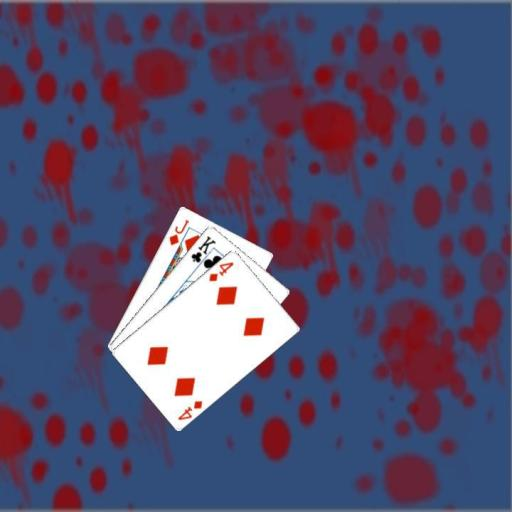4D: (206, 258, 236, 283), (174, 397, 204, 422)
JD: (166, 216, 191, 247)
KC: (188, 233, 218, 270)
